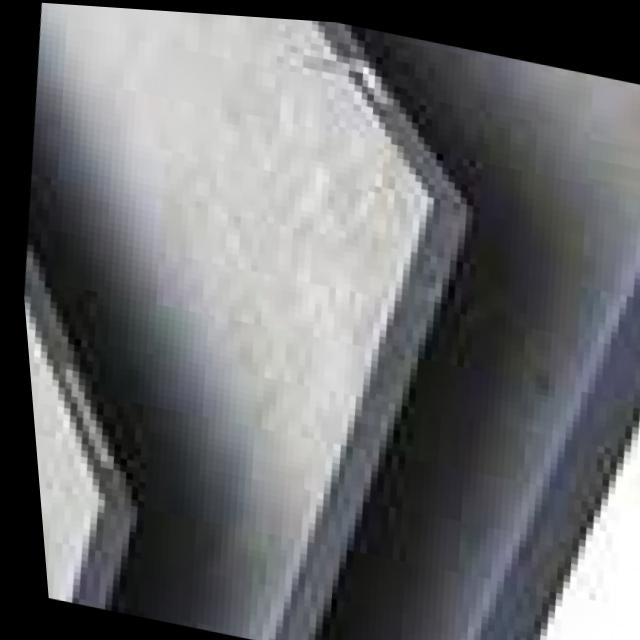metal-plates: (20, 3, 426, 640)
